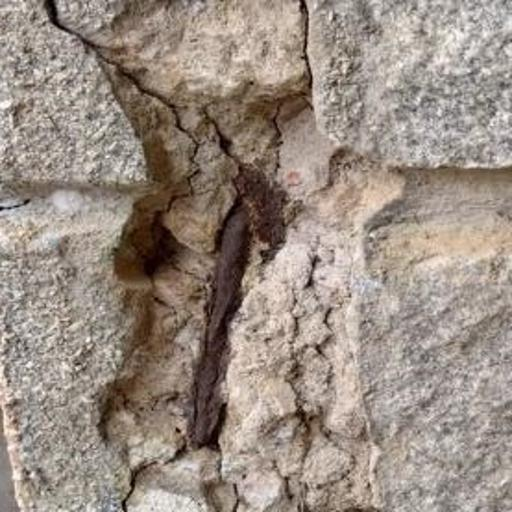spalling: (76, 35, 381, 511)
